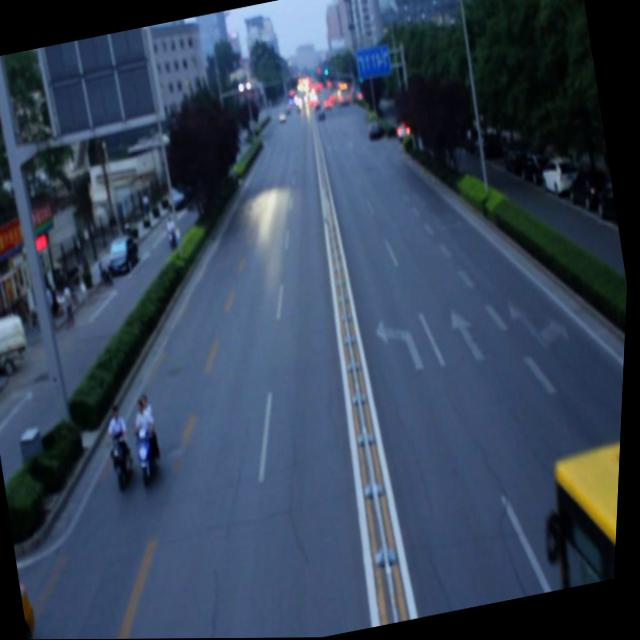van: (546, 437, 625, 590)
